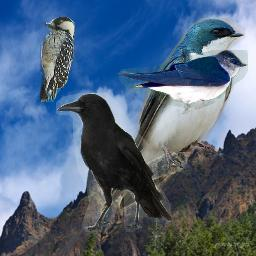Crow: (56, 93, 172, 232)
Swallow: (101, 18, 245, 213), (117, 50, 248, 114)
Woodpecker: (40, 16, 75, 102)
